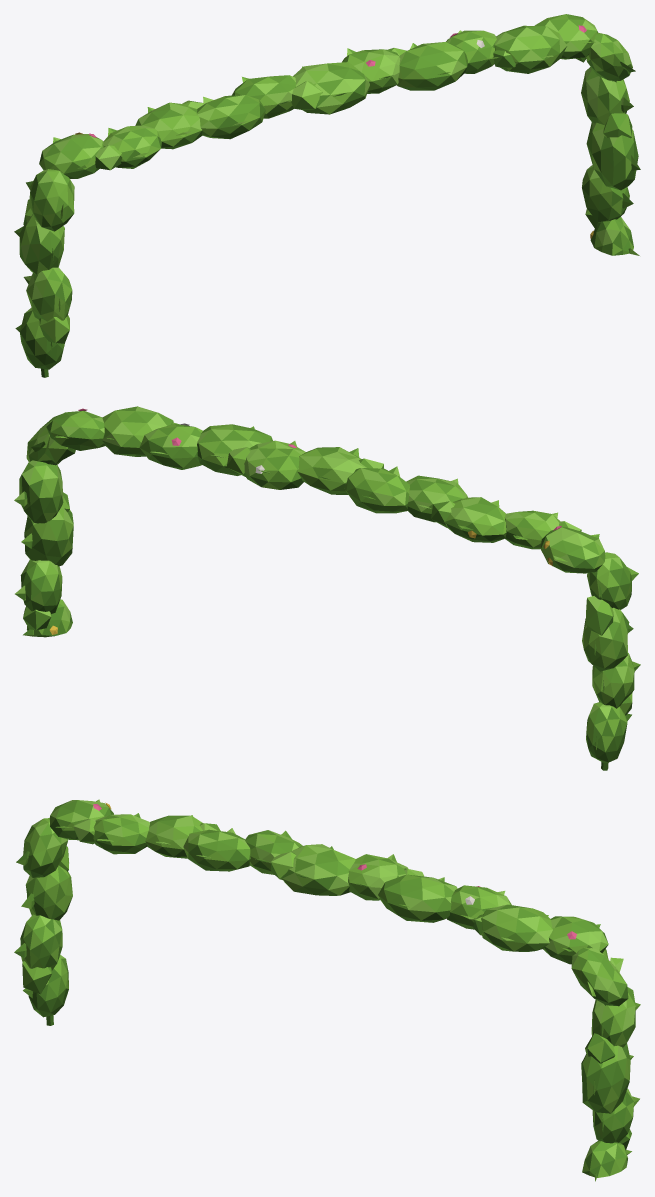
File: mine-leaf-arch.glb
3 views of the same model, one above another, from view 1: azimuth 30°, elevation 25°; view 2: azimuth 150°, elevation 25°; view 3: azimuth 330°, elevation 25° (orthographic).
Visible parts, largest first — view 1: MineLeafArch; view 2: MineLeafArch; view 3: MineLeafArch.
Boxes of the visible parts, x1,y1,x2,y2 form: MineLeafArch: [14, 14, 640, 377]; MineLeafArch: [14, 406, 640, 770]; MineLeafArch: [14, 799, 640, 1181].
Size of the model in its own units: 18.58 by 7.2 by 2.54.
